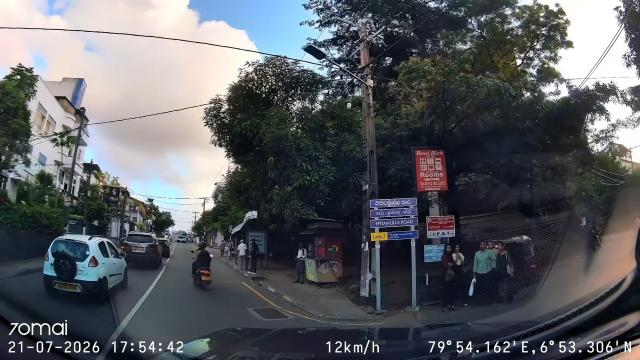illegal overtaking: (186, 238, 219, 294)
